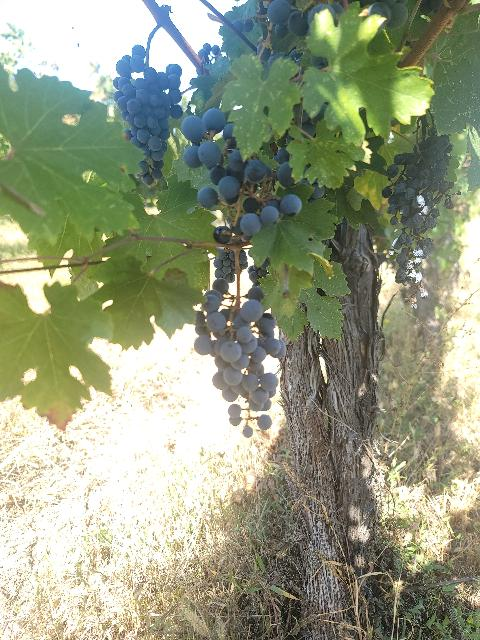grapes: (194, 276, 286, 438), (114, 45, 182, 185)
